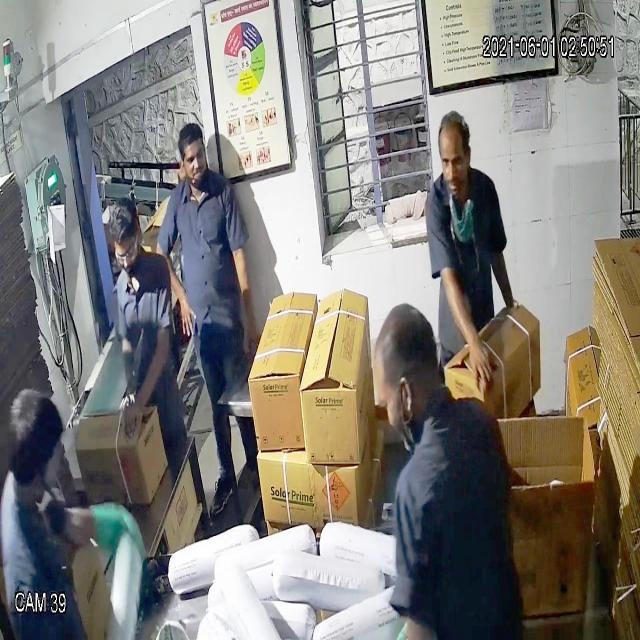glasses: (110, 231, 148, 274)
no-glass: (435, 145, 472, 180), (178, 145, 210, 171)
